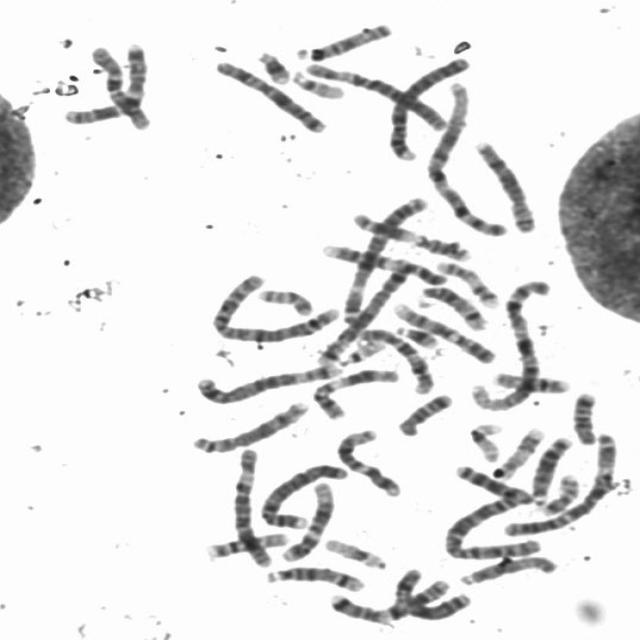A1: (418, 77, 512, 239), (466, 276, 552, 414)
A2: (206, 270, 343, 344), (438, 490, 544, 560)
A3: (496, 426, 623, 538), (338, 193, 432, 320)
B4: (382, 52, 474, 164), (256, 458, 351, 532)
B5: (310, 259, 412, 366), (191, 358, 344, 406)
C10: (82, 41, 153, 132), (351, 323, 436, 395)
C11: (348, 208, 474, 262), (306, 363, 403, 422)
C12: (332, 424, 406, 498), (276, 477, 338, 564)
C6: (297, 59, 453, 132), (228, 444, 276, 568)
C7: (57, 38, 150, 127), (324, 576, 452, 624)
C8: (187, 396, 314, 455), (467, 136, 541, 234)
C9: (388, 298, 498, 366), (317, 239, 452, 286)
D13: (450, 460, 538, 507), (527, 432, 577, 508)
D14: (416, 282, 490, 332), (261, 561, 368, 593)
D15: (290, 18, 396, 63), (454, 551, 560, 587)
E16: (201, 527, 292, 560), (489, 368, 572, 394)
E17: (431, 257, 503, 310), (490, 423, 548, 479)
E18: (394, 389, 456, 437), (567, 387, 602, 446)
F19: (319, 534, 390, 571), (462, 418, 506, 462)
F20: (536, 469, 583, 516), (252, 285, 316, 317)
G21: (250, 46, 293, 86), (391, 321, 441, 350)
G22: (287, 66, 348, 100), (334, 335, 386, 366)
X: (209, 56, 330, 135), (388, 565, 474, 622)
